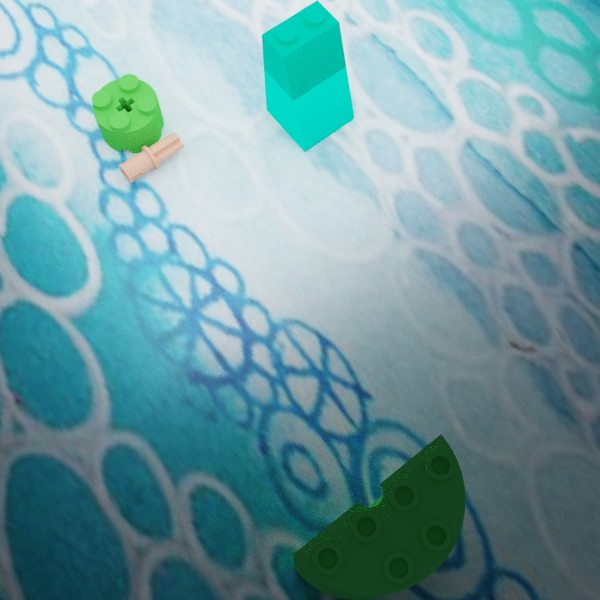lego: (292, 434, 465, 599), (261, 0, 354, 152), (91, 73, 163, 153), (118, 132, 184, 183)
